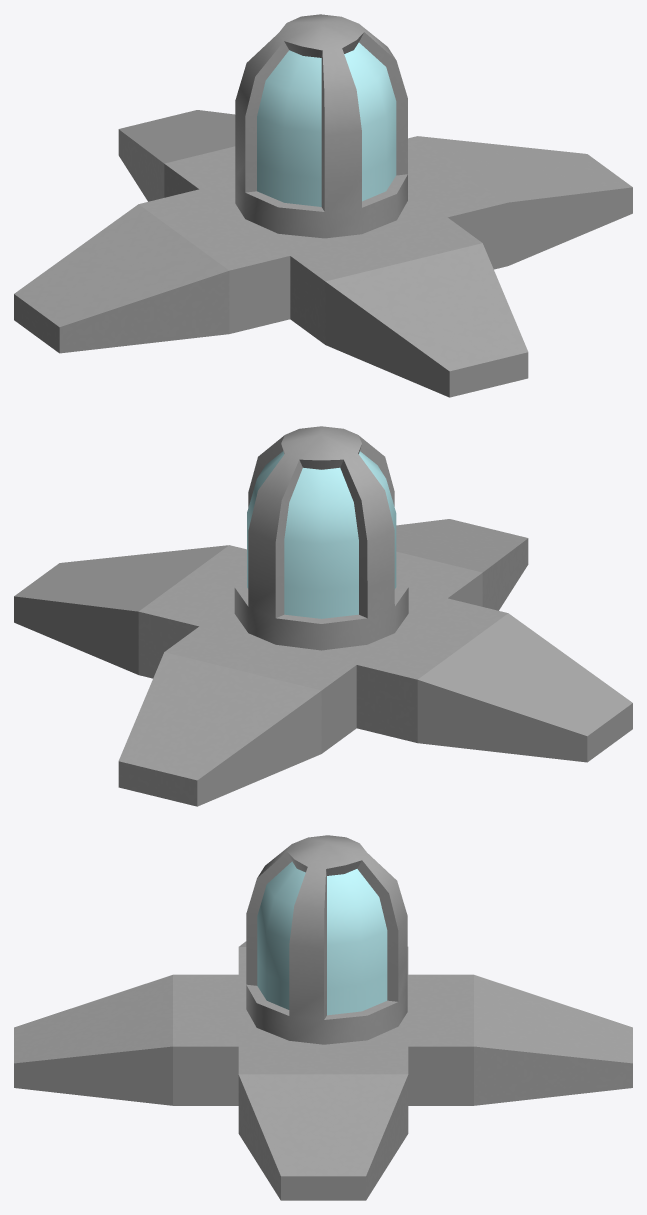
The model's file is Light_Floor.fbx.
3 views of the same model, one above another, from view 1: azimuth 30°, elevation 25°; view 2: azimuth 150°, elevation 25°; view 3: azimuth 270°, elevation 25° (orthographic). The views are drawn at different scales.
Parts seen in each view (by area): view 1: Light_Floor; view 2: Light_Floor; view 3: Light_Floor.
Part boxes in pixels (bbox=[...]): Light_Floor: bbox=[14, 14, 632, 397]; Light_Floor: bbox=[14, 426, 632, 806]; Light_Floor: bbox=[14, 835, 632, 1200].
Bounding box in the file's own units: 38.29 × 15.53 × 38.29.
Materials: 1 (1 with a texture image).
